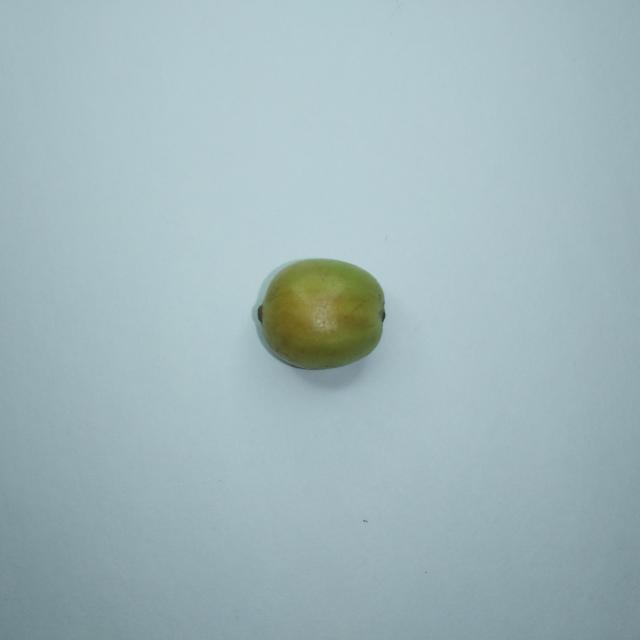Sano: (253, 259, 385, 369)
